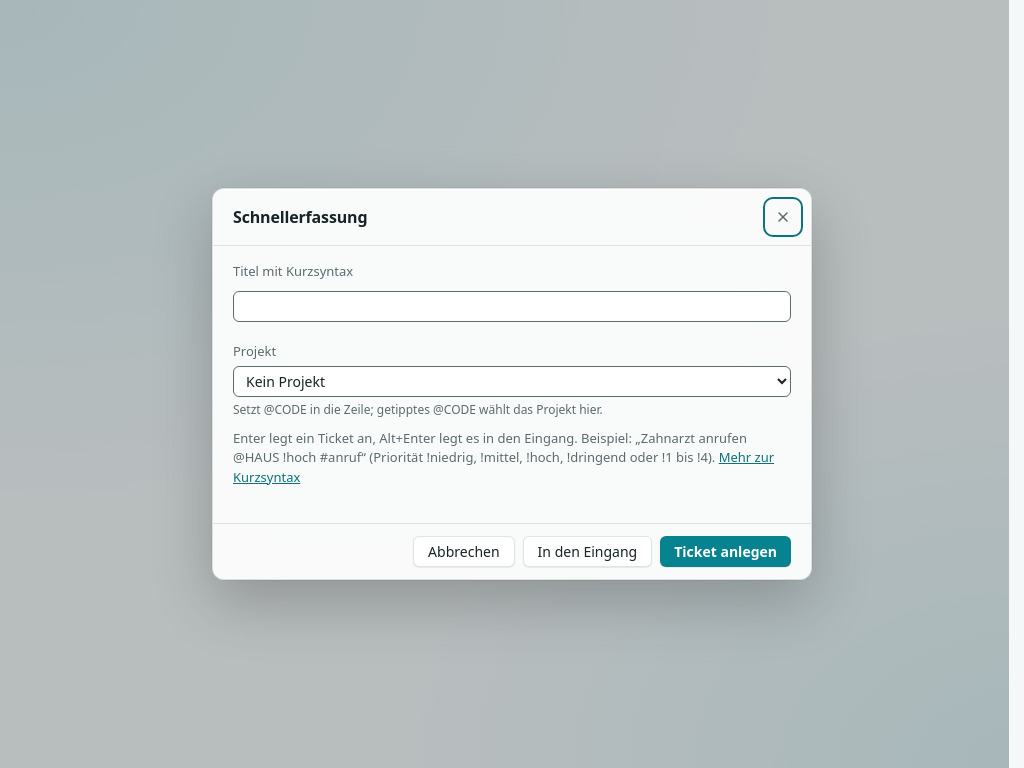
Scenario: quick capture › creates a ticket with Enter, announces it with a link and empties the field
Type "Milch @HAUS" into the field labelled "Titel mit Kurzsyntax" at (512, 307), box [233, 291, 791, 322]
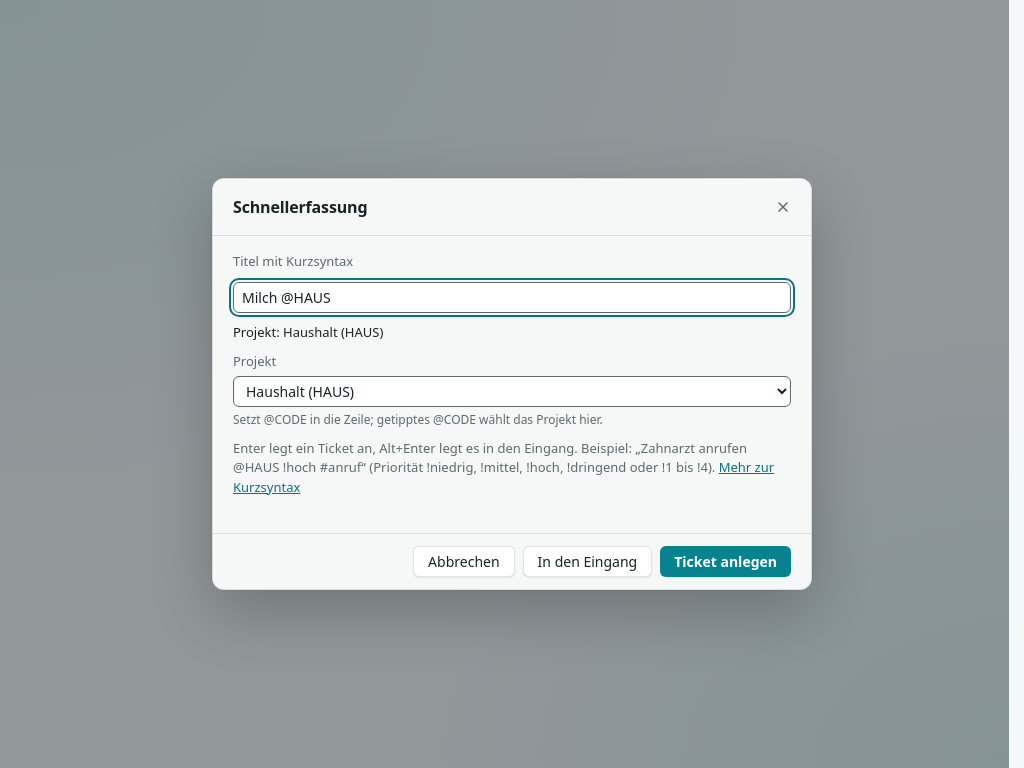
Press Enter in the field labelled "Titel mit Kurzsyntax", box [233, 282, 791, 312]
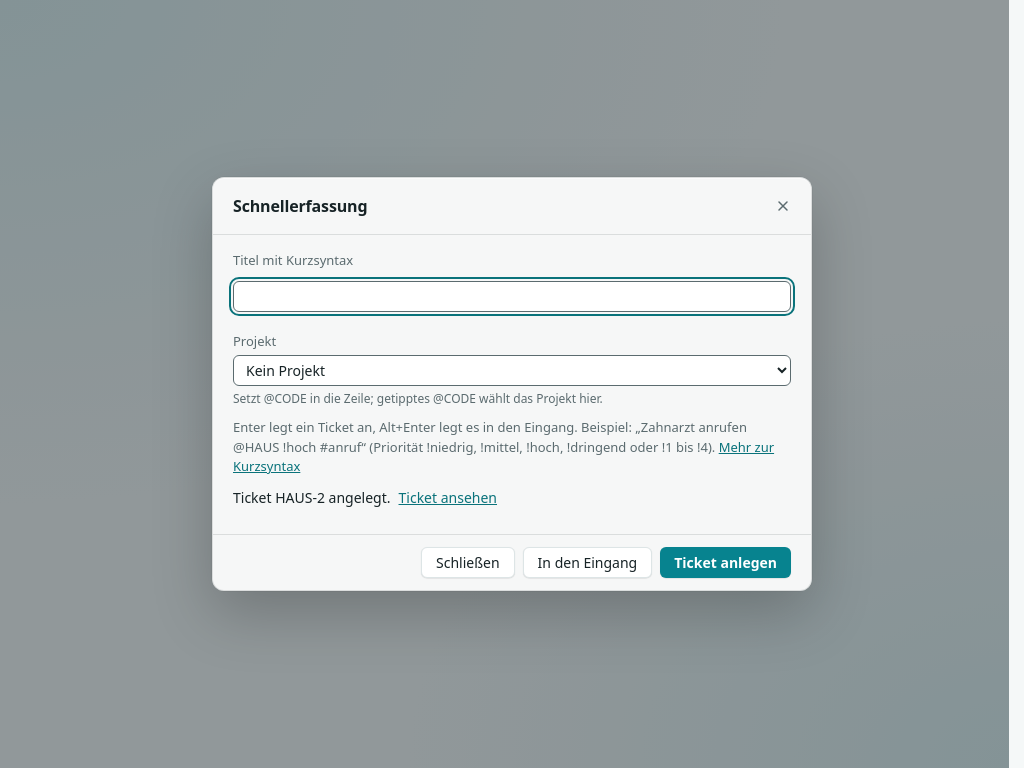
Expected: the element "Ticket ansehen" shows "Ticket HAUS-2 angelegt.", [233, 488, 390, 507]
Expected: the field labelled "Titel mit Kurzsyntax" is empty, [233, 281, 791, 312]
